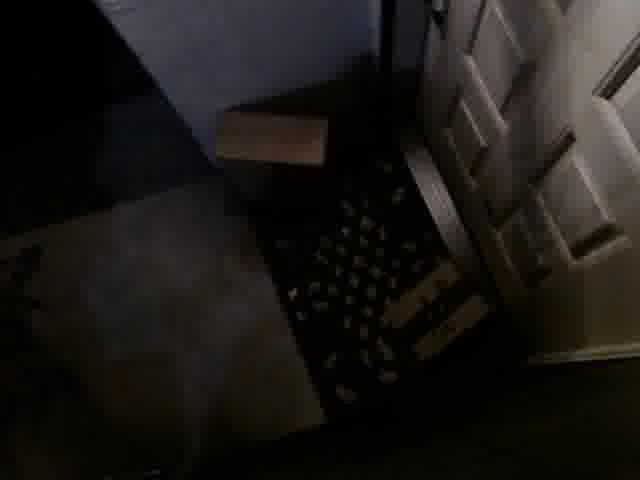box: (376, 260, 490, 365), (213, 110, 325, 170)
